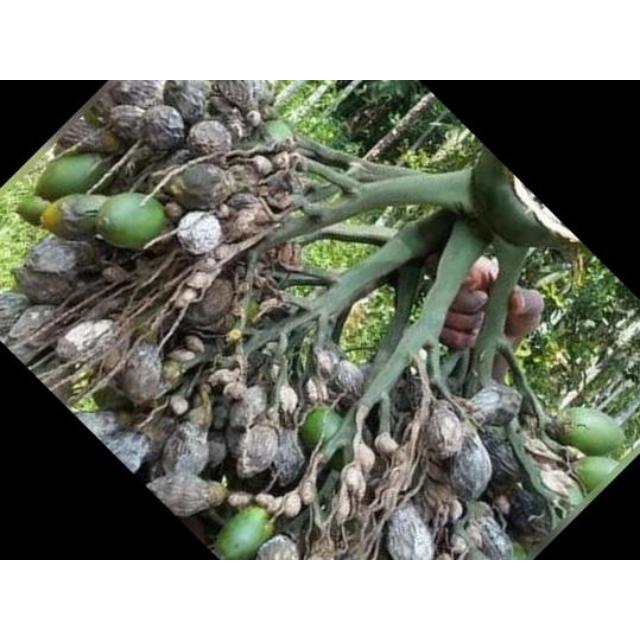damaged: (147, 472, 226, 516), (118, 334, 162, 412), (160, 421, 212, 482), (448, 433, 492, 501), (24, 237, 92, 280), (6, 306, 62, 358), (57, 318, 116, 364), (186, 277, 236, 329), (499, 489, 549, 541), (464, 506, 512, 560), (386, 503, 432, 559), (96, 428, 152, 474), (238, 424, 284, 478), (15, 264, 80, 302), (176, 162, 228, 208), (136, 105, 186, 152), (222, 195, 272, 242), (175, 210, 223, 256), (468, 386, 520, 428), (424, 406, 466, 458), (270, 432, 306, 491), (162, 80, 208, 124), (106, 104, 150, 148), (105, 80, 161, 114), (484, 437, 522, 487), (327, 358, 367, 404), (187, 119, 235, 157), (140, 418, 178, 466), (228, 393, 266, 439), (392, 369, 426, 415), (0, 293, 32, 341), (216, 80, 260, 114), (263, 168, 299, 205), (256, 534, 300, 560), (227, 420, 250, 460), (226, 192, 262, 214), (314, 348, 338, 380), (278, 384, 300, 418), (250, 154, 272, 176), (168, 395, 190, 417)
